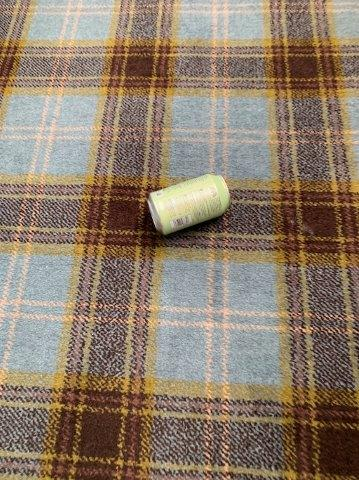kaleng: (149, 175, 230, 233)
